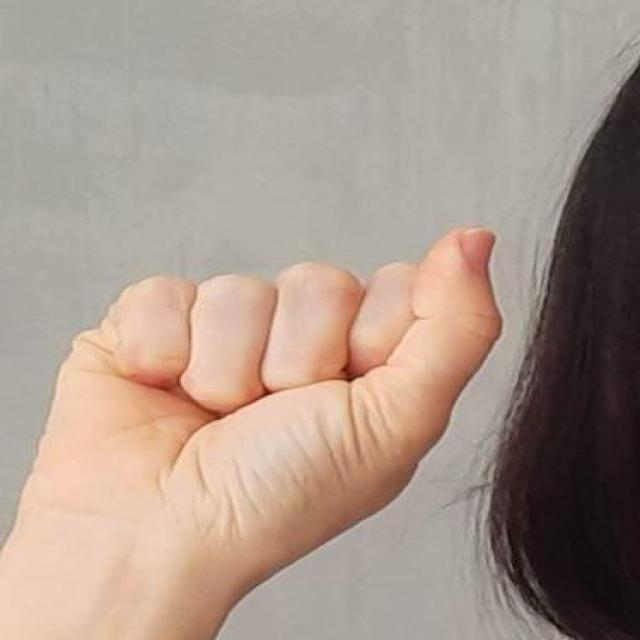hand: (2, 224, 507, 638)
